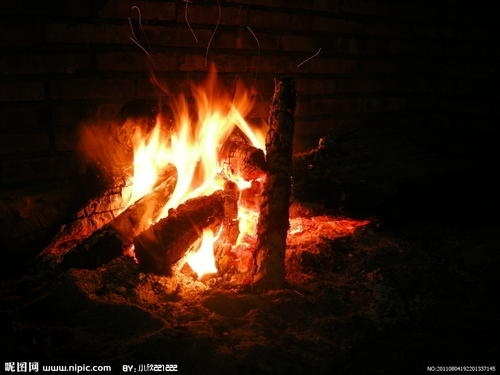fire: (116, 70, 269, 226), (175, 223, 223, 277)
